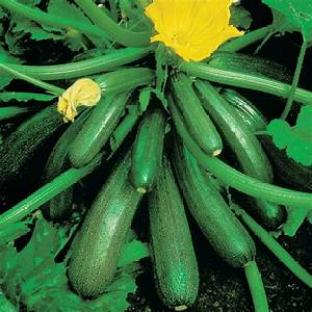Zucchini: (173, 137, 255, 267), (68, 153, 142, 297), (195, 82, 272, 182), (149, 156, 198, 310), (0, 106, 63, 190), (69, 92, 130, 167), (171, 73, 222, 155), (44, 111, 89, 183), (129, 108, 166, 193), (258, 136, 311, 191), (209, 51, 292, 83), (220, 89, 267, 132), (222, 90, 266, 133), (95, 68, 154, 95)
